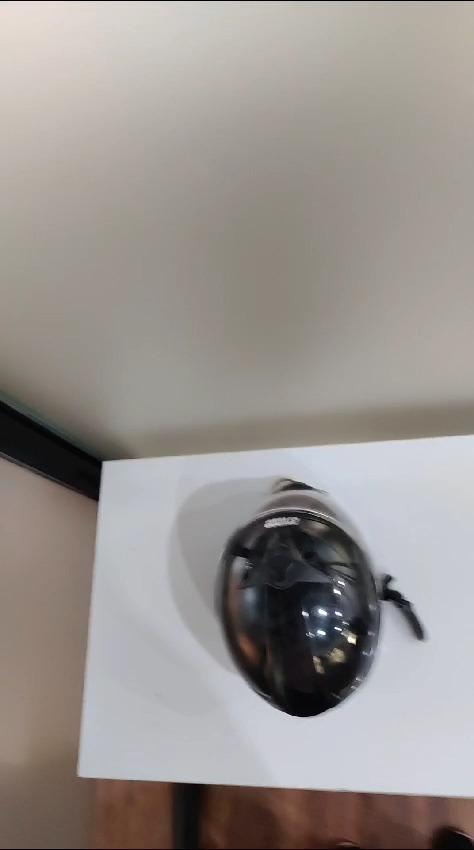Helmet: (218, 479, 424, 715)
